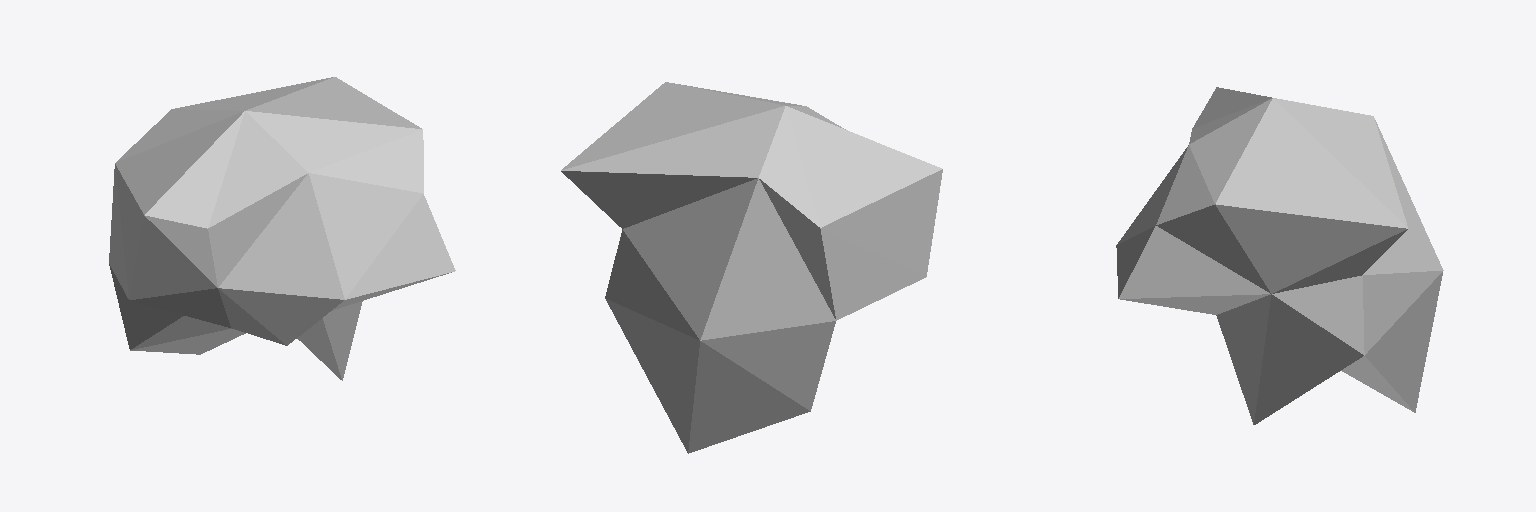
Rendered from crumpled_paper_2.obj.
3 views of the same model, side by side, from view 1: azimuth 30°, elevation 25°; view 2: azimuth 150°, elevation 25°; view 3: azimuth 270°, elevation 25° (orthographic).
Visible parts, largest first — view 1: crumpled_paper_2_Cube.015; view 2: crumpled_paper_2_Cube.015; view 3: crumpled_paper_2_Cube.015.
Boxes of the visible parts, x1,y1,x2,y2 form: crumpled_paper_2_Cube.015: [109, 77, 455, 380]; crumpled_paper_2_Cube.015: [561, 82, 942, 453]; crumpled_paper_2_Cube.015: [1116, 87, 1443, 424].
Size of the model in its own units: 0.6136 by 0.6182 by 0.6058.